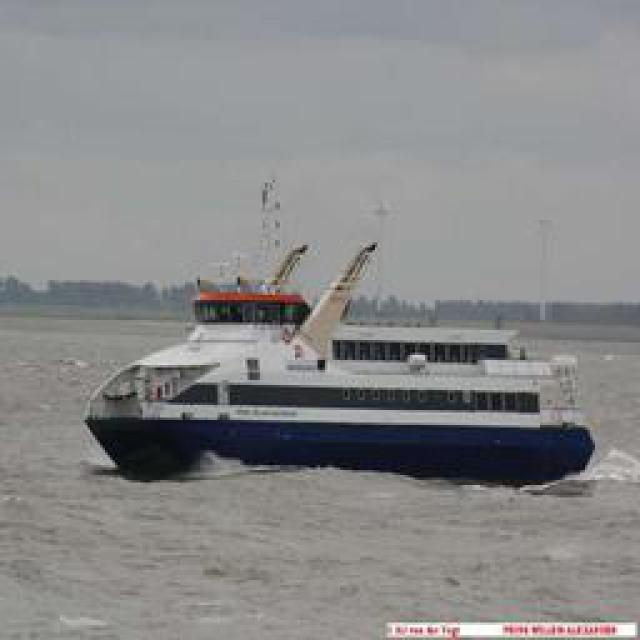Ship: (80, 236, 598, 486)
